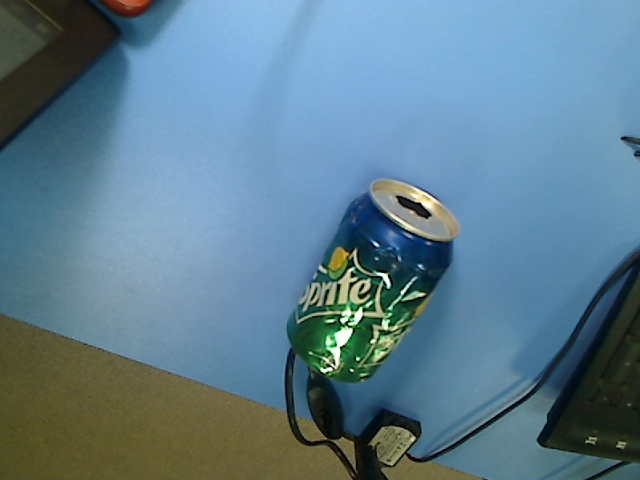can: (283, 177, 460, 388)
